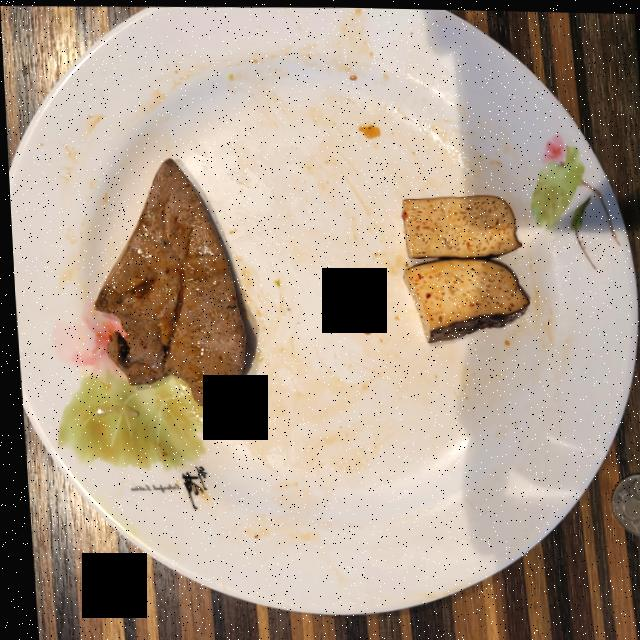coin: (606, 471, 640, 533)
firm tofu: (399, 193, 526, 341)
pig liver: (92, 157, 241, 407)
